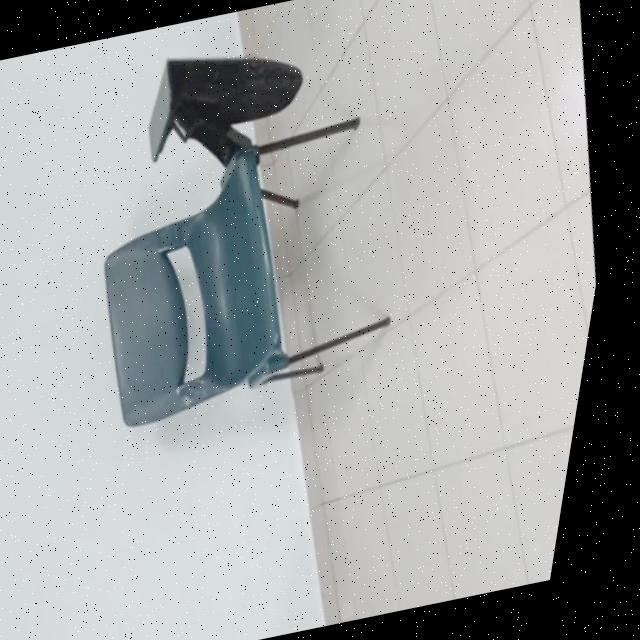sandalye: (113, 115, 401, 425)
